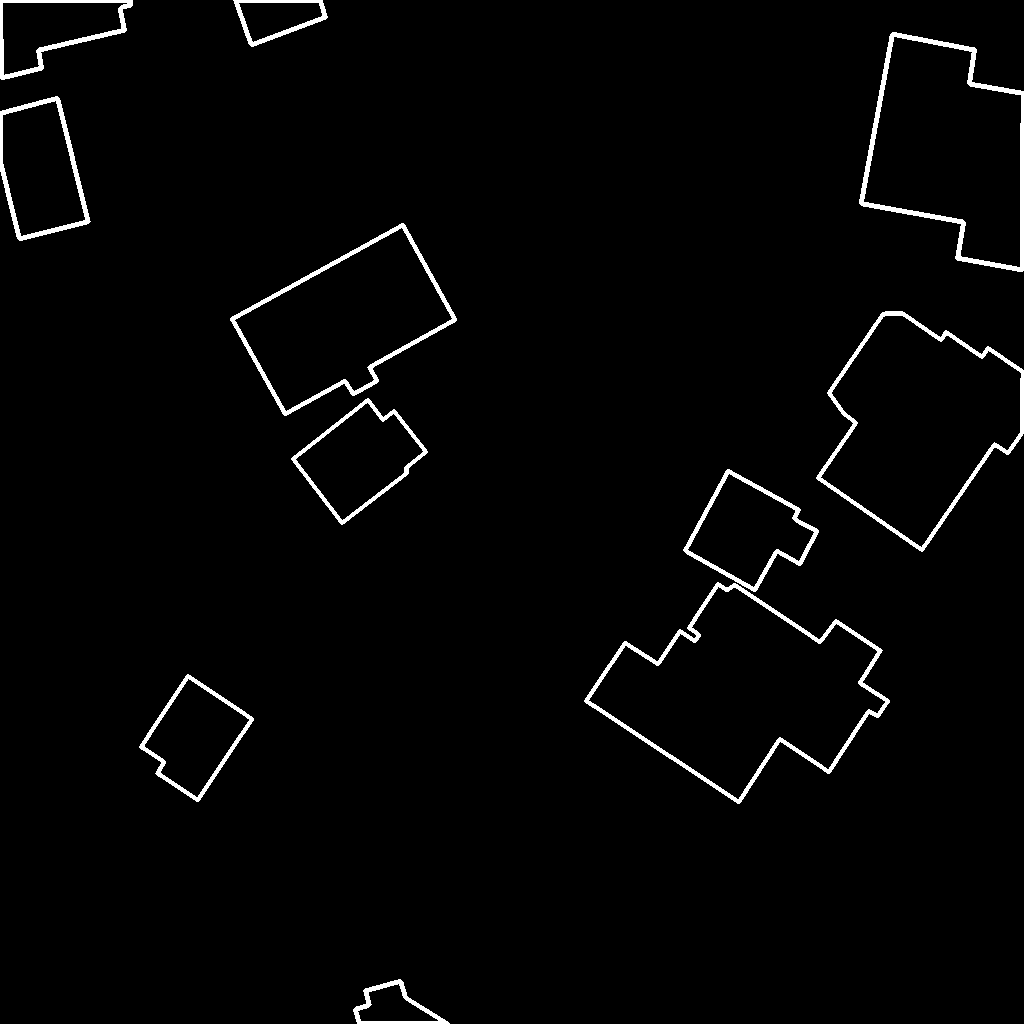building: (586, 584, 889, 803), (818, 313, 1024, 551), (232, 225, 456, 415), (861, 34, 1024, 271), (293, 400, 427, 524), (685, 471, 818, 591), (141, 676, 253, 801), (0, 98, 89, 240), (0, 0, 132, 79), (235, 0, 327, 46), (355, 981, 449, 1024)
